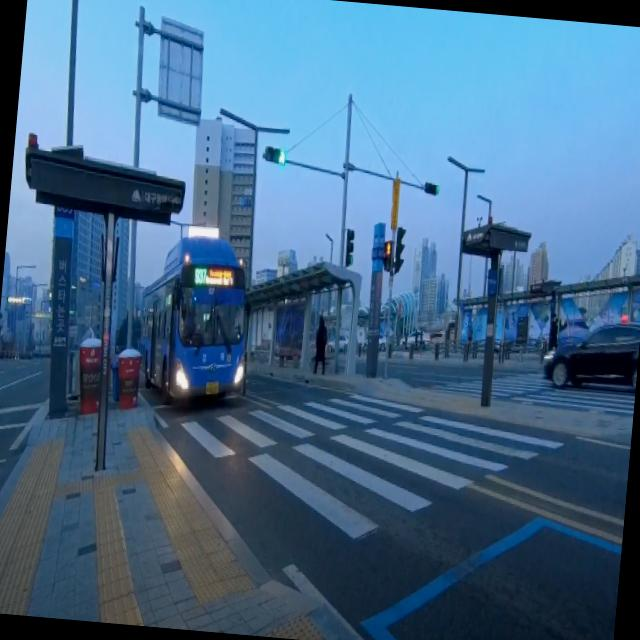bus-number: (194, 266, 206, 286)
